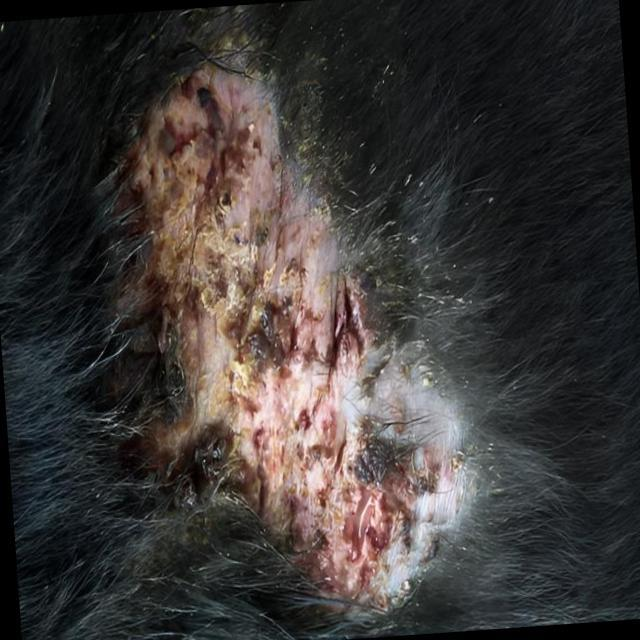allergic dermatitis: (126, 67, 430, 604)
